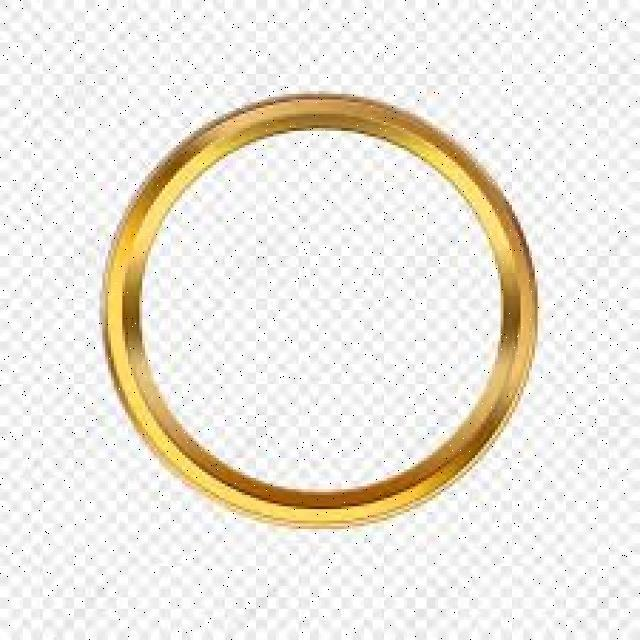Circle: (100, 90, 539, 529)
